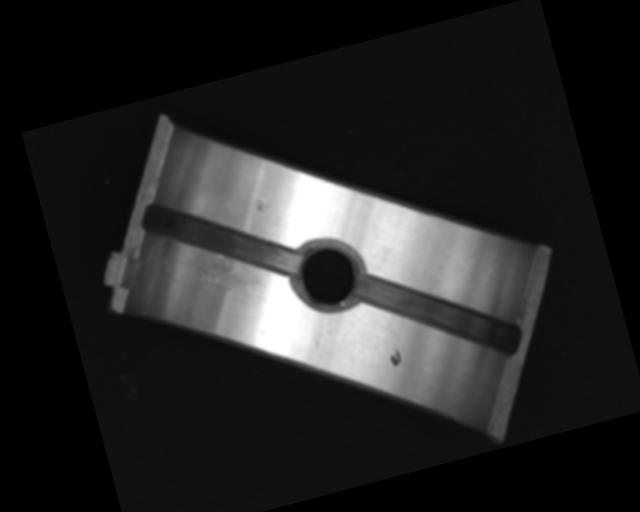blot: (388, 347, 404, 368)
bruise: (251, 193, 272, 214)
gap: (356, 241, 524, 387), (138, 170, 302, 306)
hole: (286, 231, 368, 318)
nick: (302, 324, 334, 367)
scratch: (176, 231, 269, 313)
